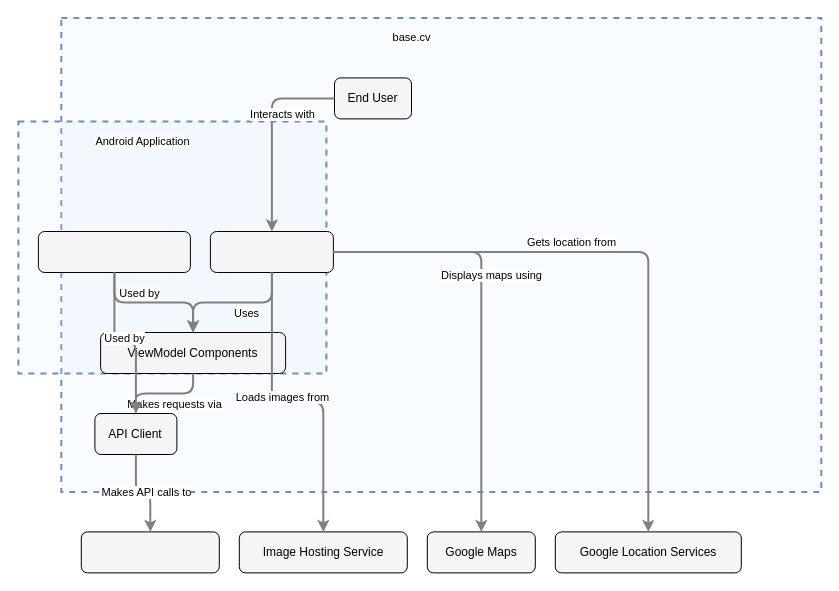
This 839x591 diagram has some shape labels left out. The box of each missing label's shape, as (x1, y1, x2, y2) in pixels:
Backend REST API: (80, 531, 219, 573)
Model Components: (37, 230, 190, 272)
UI Components: (209, 230, 333, 272)
